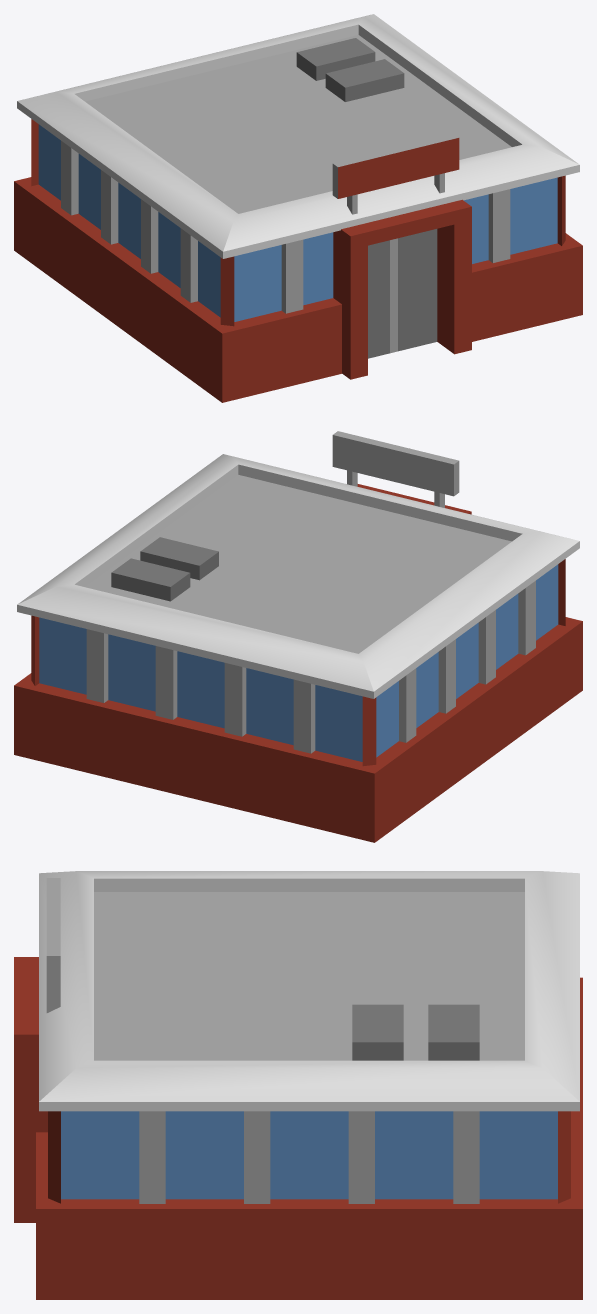
File: house_12.glb
3 views of the same model, one above another, from view 1: azimuth 30°, elevation 25°; view 2: azimuth 150°, elevation 25°; view 3: azimuth 270°, elevation 25° (orthographic). The views are drawn at different scales.
Parts seen in each view (by area): view 1: house_12; view 2: house_12; view 3: house_12.
Boxes of the visible parts, box(x1,y1,x2,y2) form: house_12: box(14, 14, 582, 402); house_12: box(14, 431, 582, 842); house_12: box(14, 871, 582, 1299).
Bounding box in the file's own units: 2.18 × 1.18 × 2.27.
